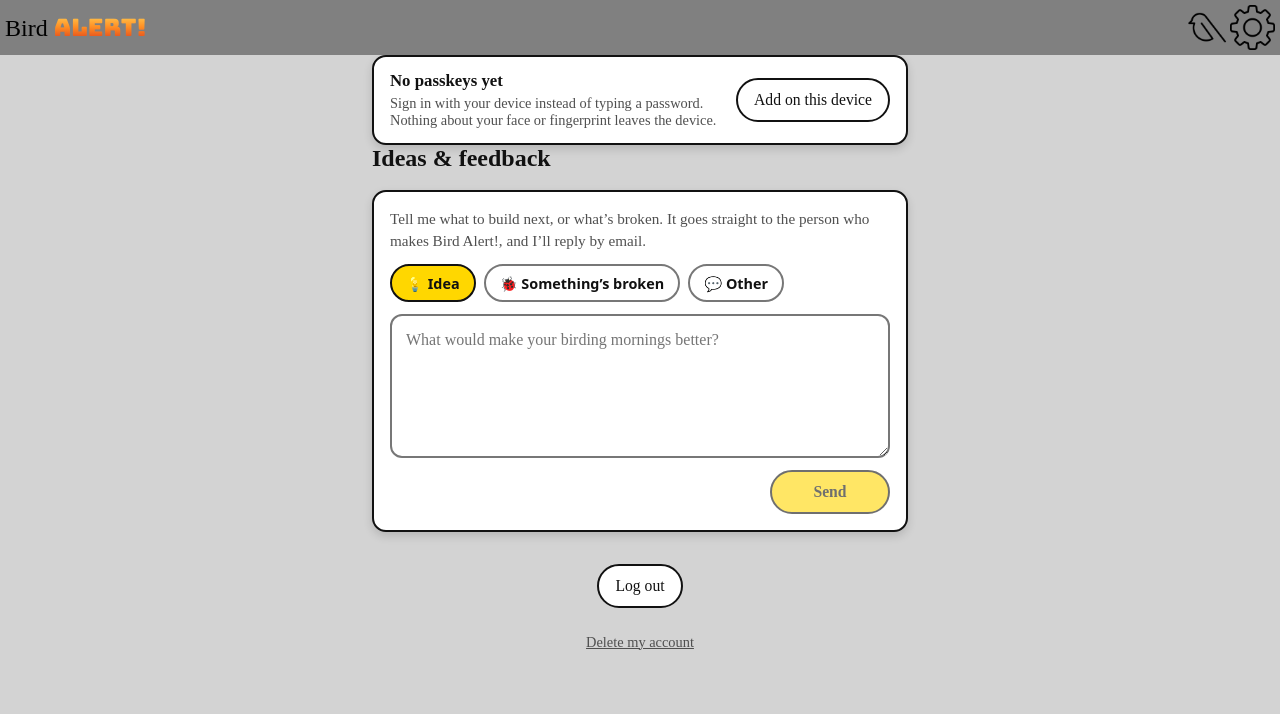
Motion › opening Delete my account sounds the red alert: the siren glow, and the klaxon unless sound is off
This screenshot has width=1280, height=714.
(page scrolled)
Click the button "Delete my account" at (640, 642), box [574, 620, 706, 664]
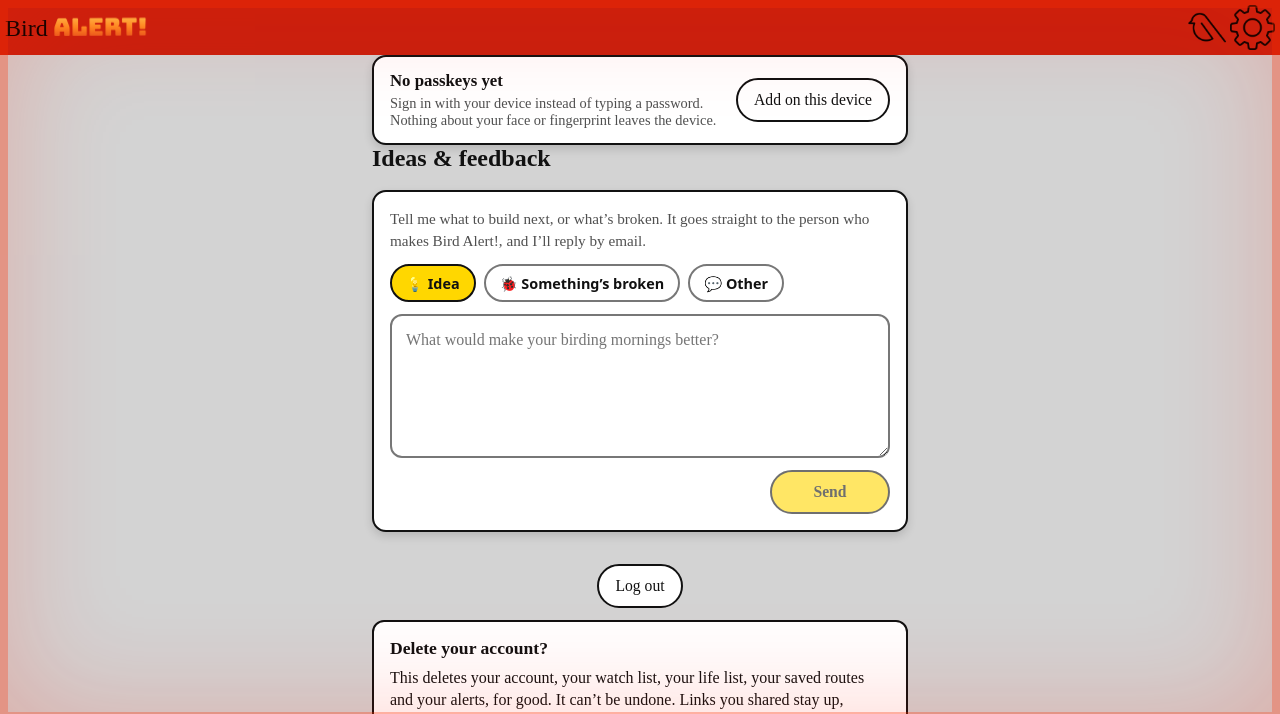
Check: the heading "Delete your account?" is shown, box [390, 638, 548, 658]
